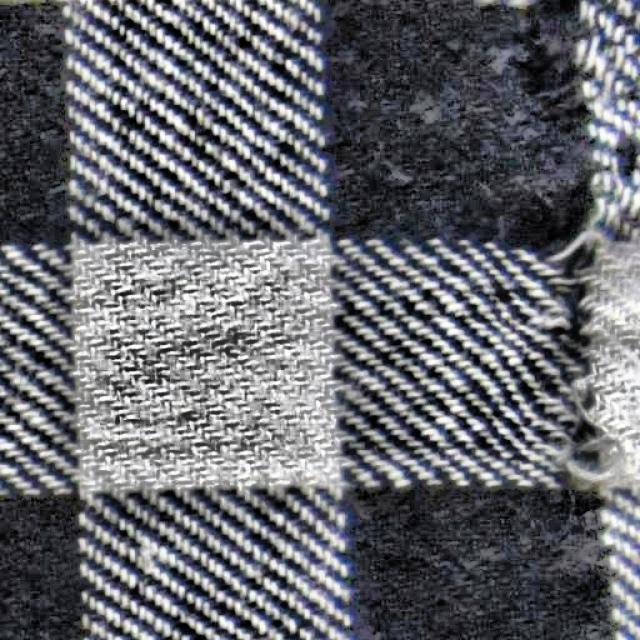Stitch: (521, 359, 638, 499), (519, 212, 628, 312)
